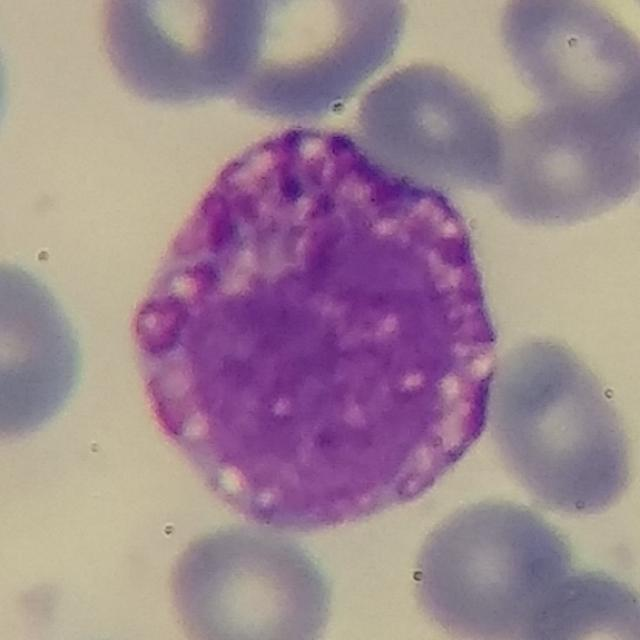Basophil: (115, 103, 514, 550)
RBC: (478, 328, 640, 518), (402, 493, 589, 640), (205, 0, 415, 125), (347, 56, 514, 194), (483, 90, 639, 232), (158, 520, 341, 640), (489, 1, 640, 134), (88, 1, 269, 111), (0, 252, 91, 449), (516, 565, 640, 640), (0, 1, 19, 194)
